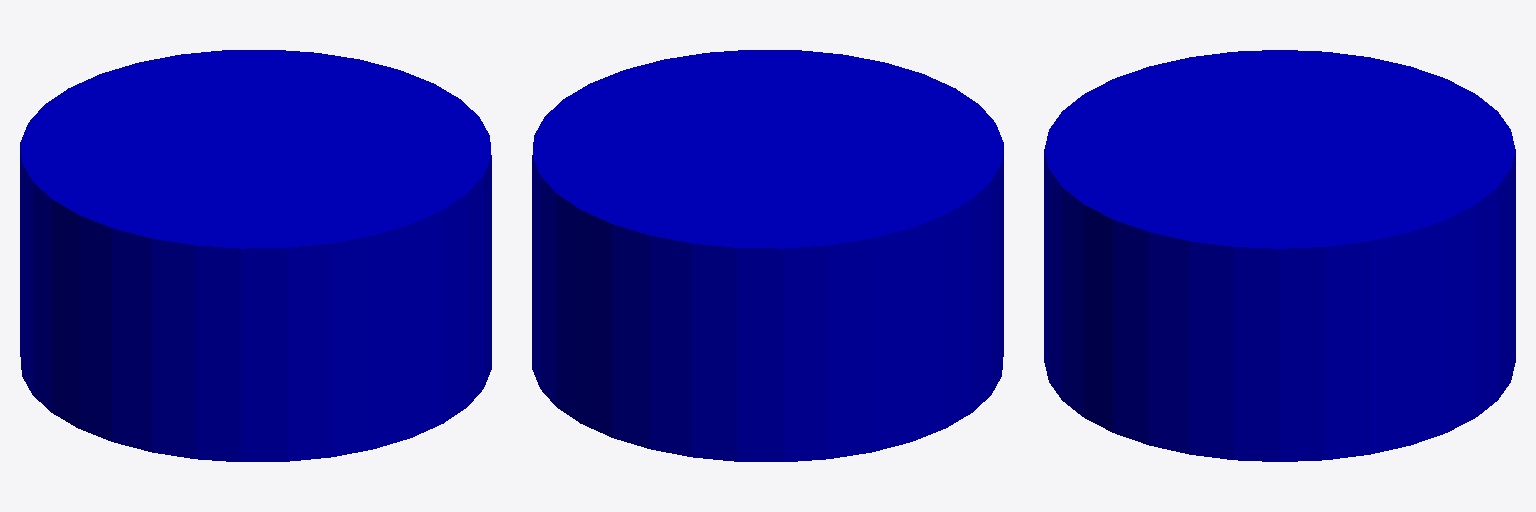
robot.urdf — physics:
<?xml version="1.0"?>
<robot name="physics">
  <link name="base_link">
    <visual>
      <geometry>
        <cylinder length="1" radius="1"/>
      </geometry>
      <material name="blue">
        <color rgba="0 0 .8 0.1"/>
      </material>
    </visual>
    <inertial>
      <mass value="10"/>
      <inertia ixx="1.0" ixy="0.0" ixz="0.0" iyy="1.0" iyz="0.0" izz="1.0"/>
    </inertial>
  </link>
</robot>

--- Facts derived from the render (not from the file) ---
Views: 3 orthographic renders of the robot side by side, from view 1: azimuth 30°, elevation 25°; view 2: azimuth 150°, elevation 25°; view 3: azimuth 270°, elevation 25°.
Model physics with 1 links and 0 joints (none), rooted at base_link, posed all joints at 0.
Links seen in each view (by area): view 1: base_link; view 2: base_link; view 3: base_link.
Boxes of the visible links, box(x1,y1,x2,y2) form: base_link: box(20, 50, 491, 461); base_link: box(532, 50, 1003, 461); base_link: box(1044, 50, 1515, 461).
Bounding box of the posed robot: 2 × 2 × 1 m (x, y, z).
Geometry: primitives only (box / cylinder / sphere), no mesh files.